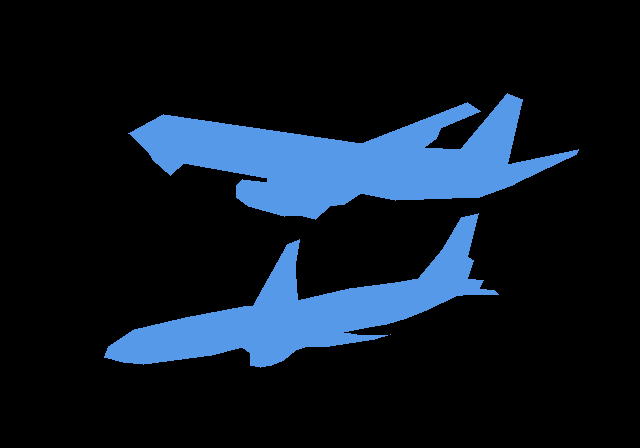Airplane: (104, 213, 498, 368), (128, 93, 579, 219)
